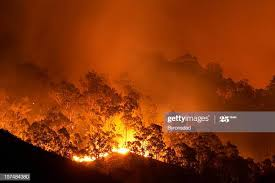fire: (63, 115, 163, 165)
smoke: (81, 19, 152, 70)
